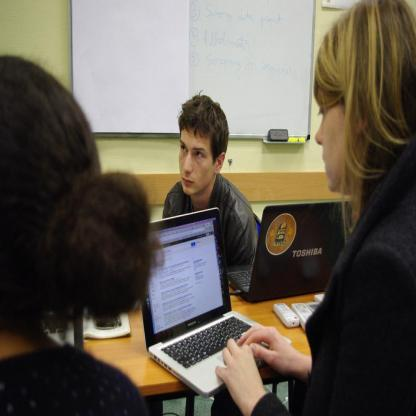board: (142, 206, 270, 405), (226, 199, 356, 302)
